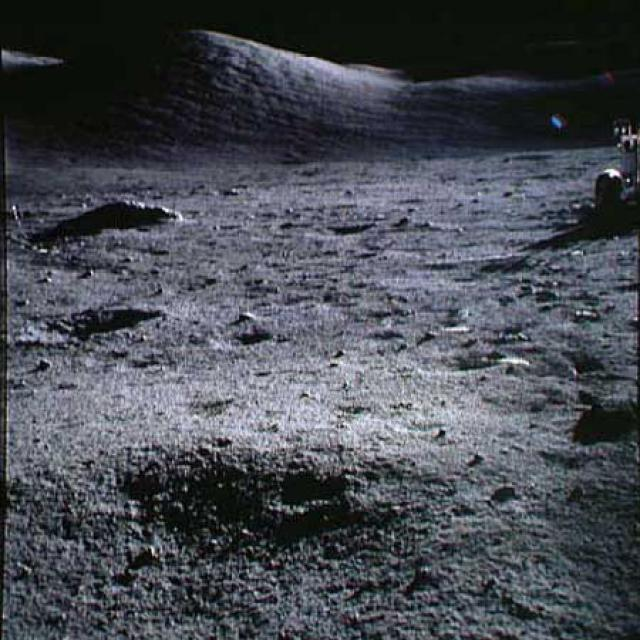artifact: (552, 115, 640, 239)
crater: (38, 301, 161, 338), (304, 219, 371, 240)
rock: (27, 186, 182, 234)
